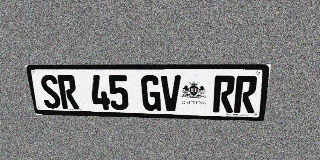4: (89, 75, 111, 110)
5: (108, 75, 129, 110)
G: (141, 75, 161, 111)
R: (234, 76, 258, 113), (213, 75, 236, 113), (57, 75, 79, 109)
S: (39, 75, 62, 109)
V: (161, 75, 181, 112)
